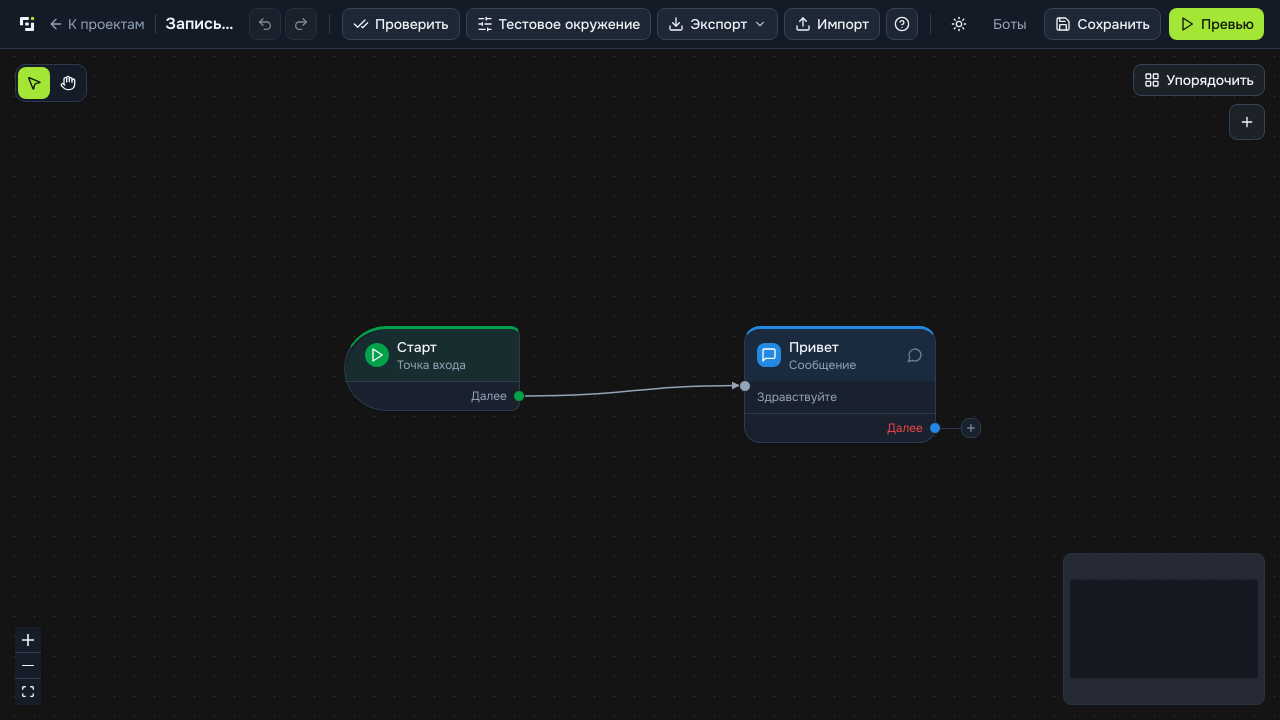
Test: EditorPage › добавление блоков › панель «Что дальше?» закрыта по умолчанию и открывается кнопкой «+» холста, Esc закрывает
Expected: the text "Привет" is shown, [789,338,839,356]
Click the button named "Добавить блок" at {"x": 1247, "y": 122}, box [1229,104,1265,140]
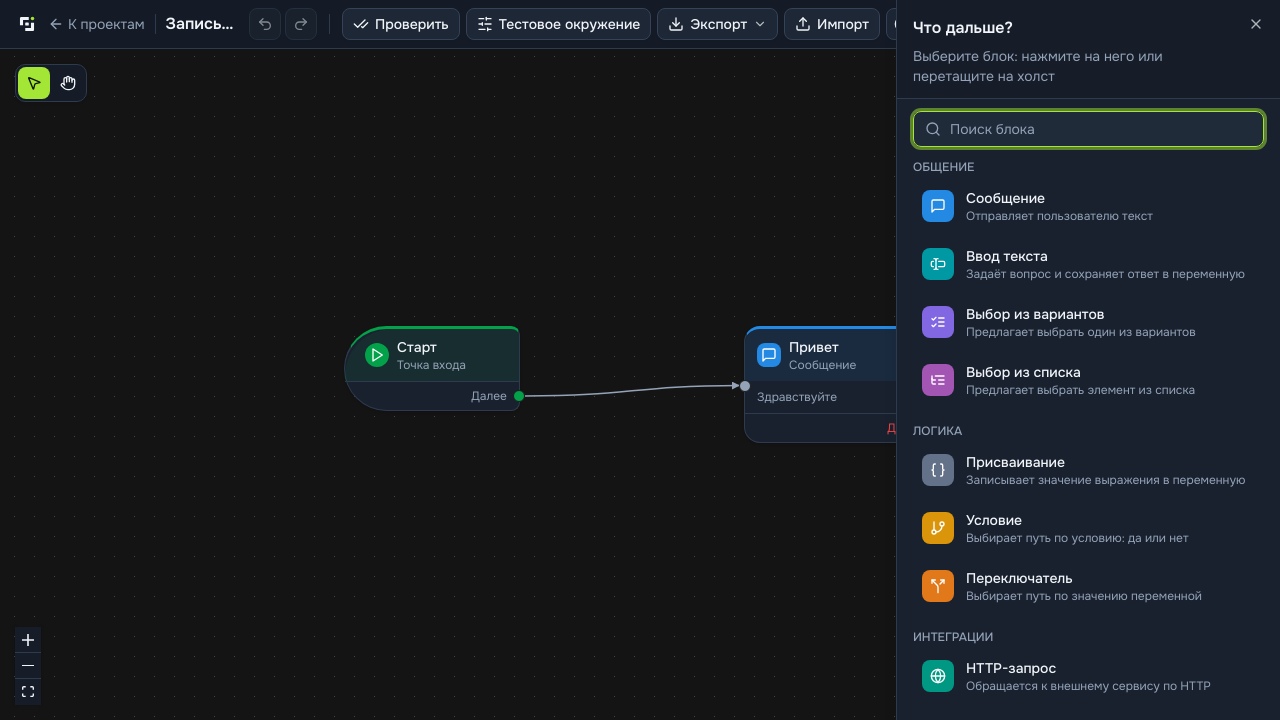
Expected: the heading "Что дальше?" is shown, [913,17,1013,38]
Press Escape in the dialog with test id "node-picker", box [896,0,1279,719]
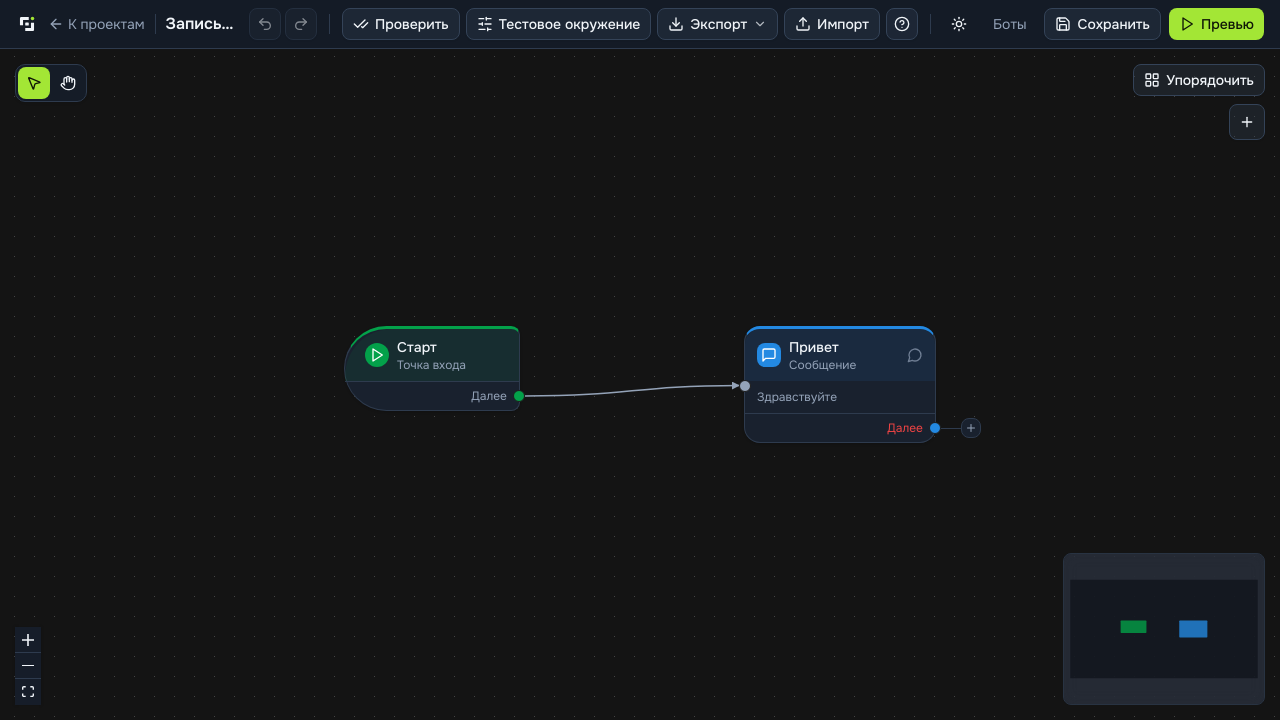
Expected: the dialog with test id "node-picker" is gone
